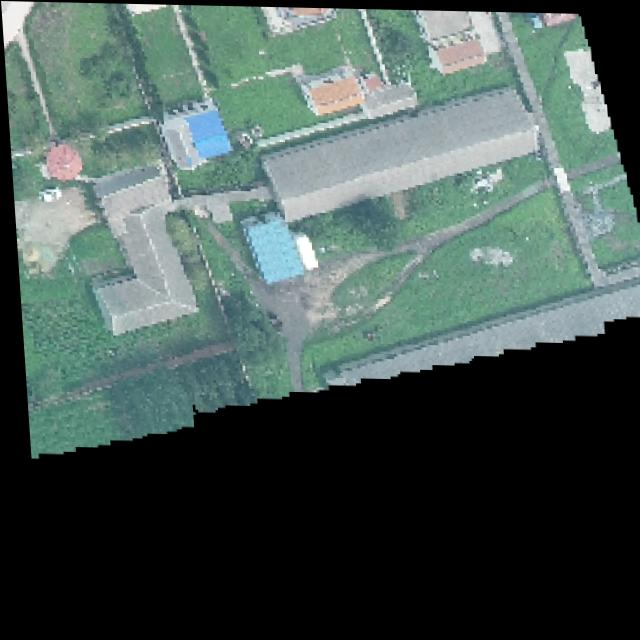Batiment: (260, 85, 530, 219), (89, 203, 192, 332), (411, 8, 499, 71), (238, 211, 314, 281), (170, 186, 266, 221), (294, 65, 361, 112), (261, 5, 335, 32), (360, 81, 414, 116), (44, 142, 80, 179), (541, 9, 576, 23)
